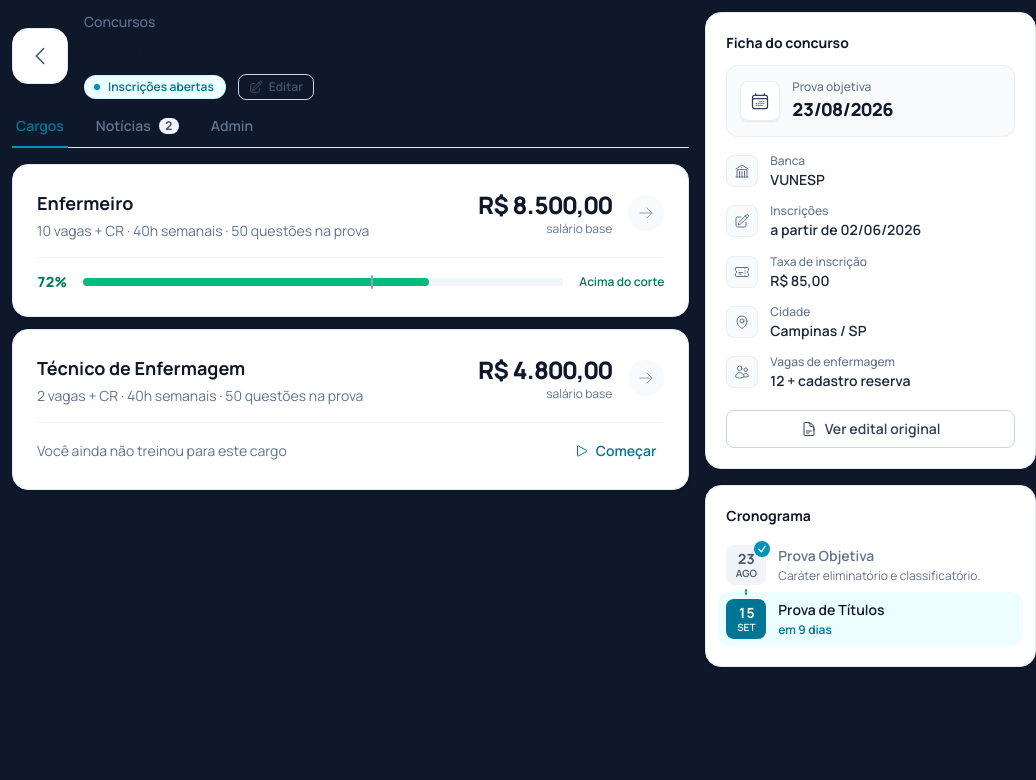
Test: página do concurso (nível 1) › aba Admin só existe para ADMIN e procura o link oficial do concurso
The width and height of the screenshot is (1036, 780).
Click the tab "Admin" at (232, 132), box [207,116,257,148]
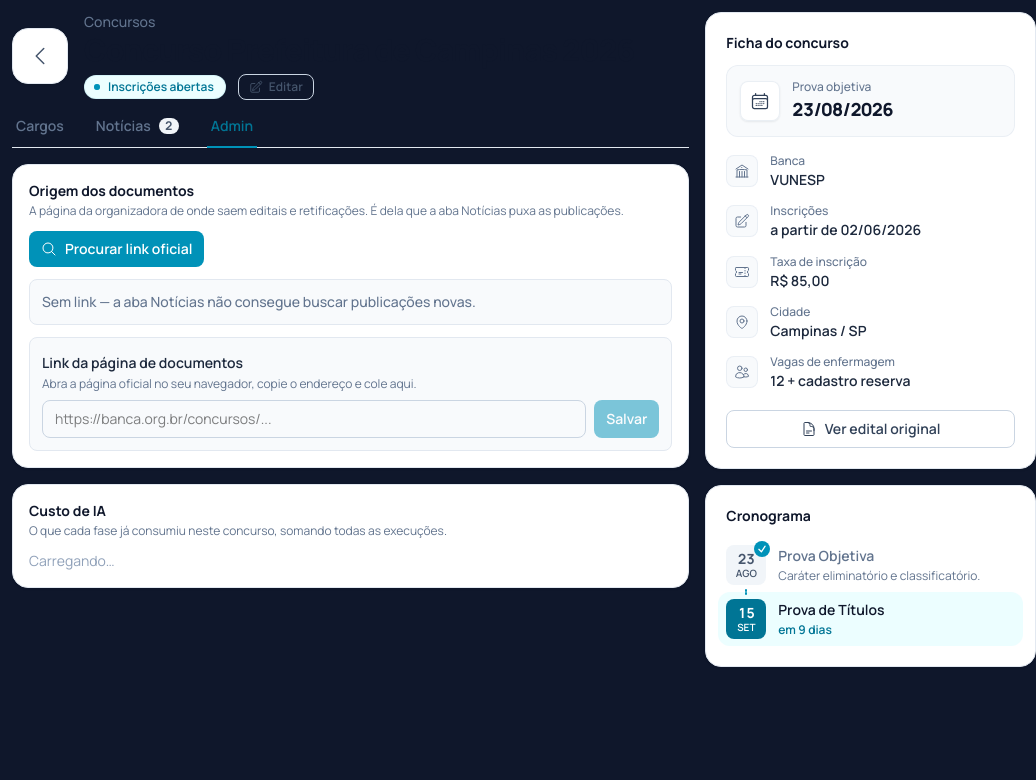
Now the heading "Origem dos documentos" is shown, box [29,181,194,200]
Now the text "Sem link" is shown, box [42,292,476,311]
Click the button "Procurar link oficial" at (117, 249), box [29,231,204,267]
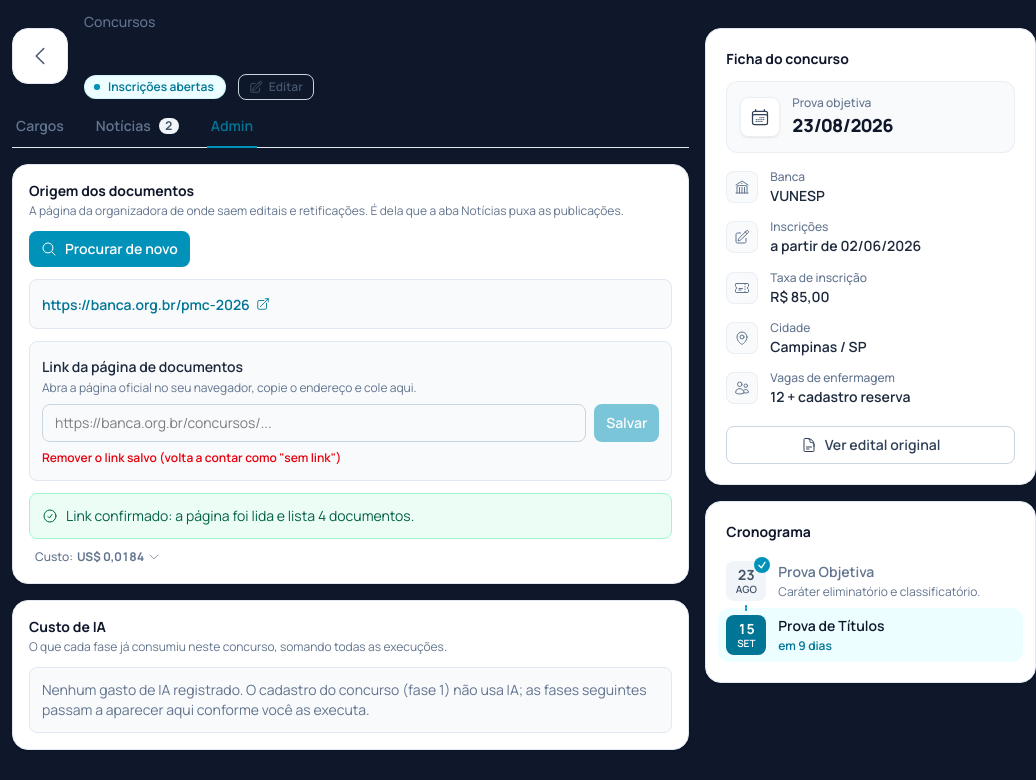
Now the text "Link confirmado: a página foi lida e lista 4 documentos." is shown, box [29,493,672,539]
Now the link "https://banca.org.br/pmc-2026" is shown, box [42,295,270,315]
Now the button "Custo: US$ 0,0184" is shown, box [29,547,166,567]
